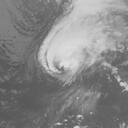cyclone: (36, 2, 126, 80)
